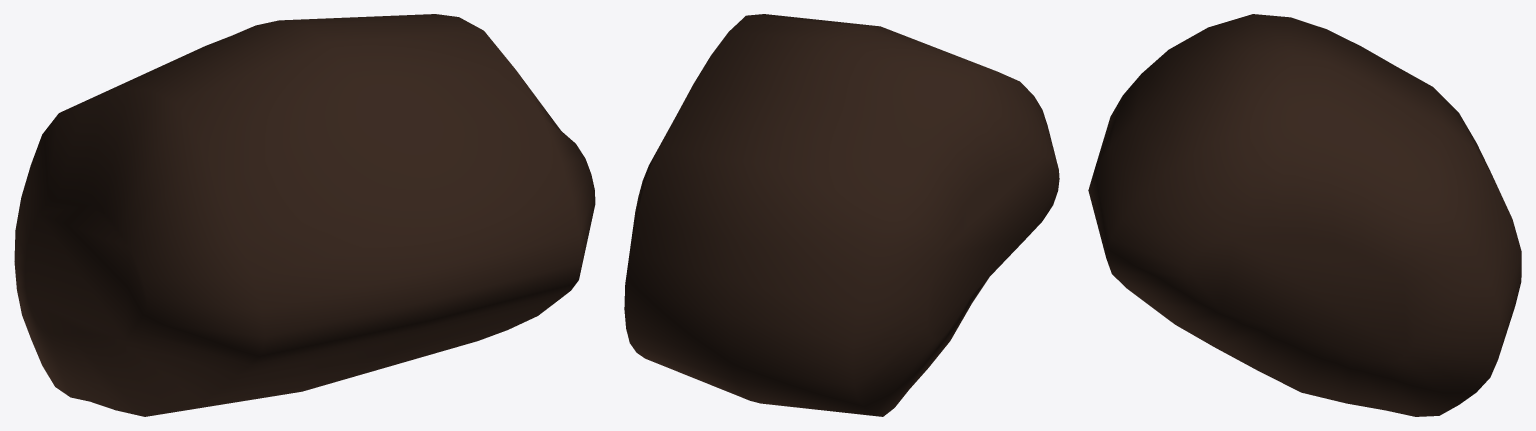
File: Hair4M.glb
3 views of the same model, side by side, from view 1: azimuth 30°, elevation 25°; view 2: azimuth 150°, elevation 25°; view 3: azimuth 270°, elevation 25° (orthographic). The views are drawn at different scales.
Parts seen in each view (by area): view 1: Hair4M.001; view 2: Hair4M.001; view 3: Hair4M.001.
Boxes of the visible parts, box(x1,y1,x2,y2) form: Hair4M.001: box(14, 14, 595, 416); Hair4M.001: box(624, 14, 1059, 416); Hair4M.001: box(1088, 14, 1521, 416).
Bounding box in the file's own units: 2.63 × 2.28 × 2.85.
